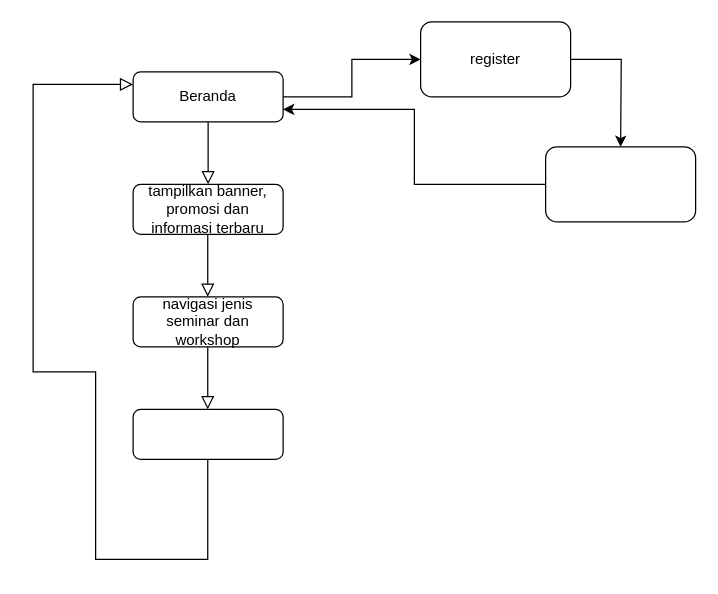
Some shapes in this 718 by 594 pixel diagram are drawn without their labels. Each missing label, with the box of its shape:
login: (544, 146, 696, 222)
tampilkan halaman detail seminar dan workshop: (132, 408, 283, 459)
